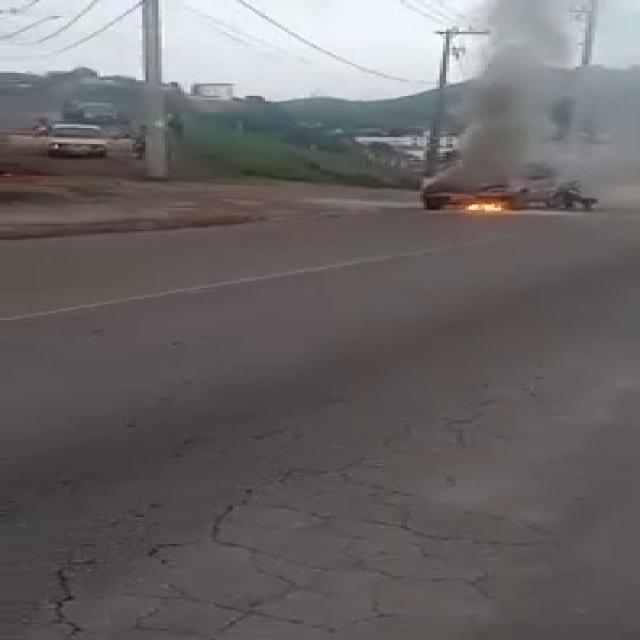Fire: (455, 200, 538, 213)
Smoke: (468, 78, 552, 182)
